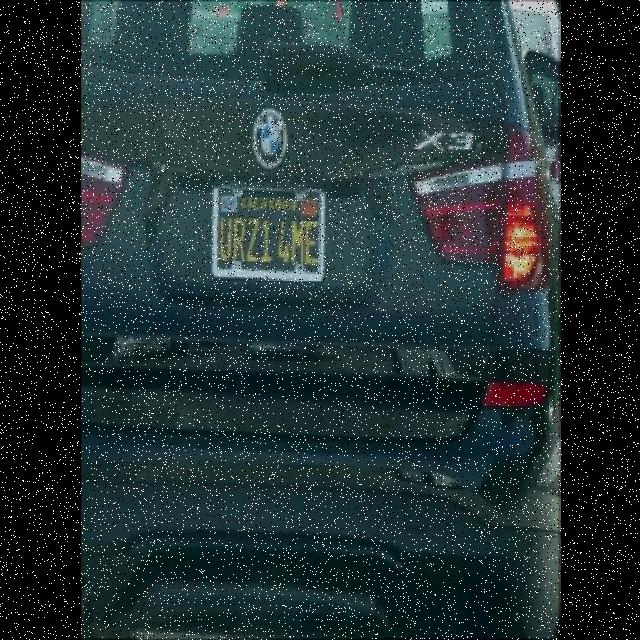licenseplate: (216, 175, 324, 278)
